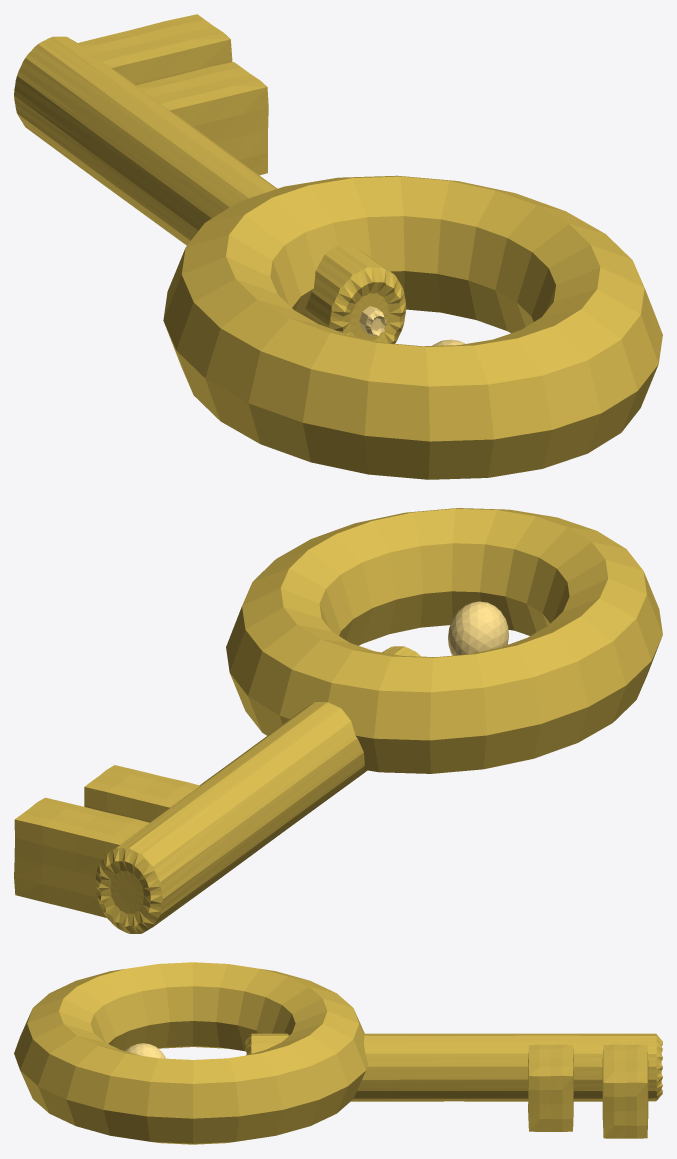
File: llave-aventura.glb
The picture shows the model from 3 angles, top to bottom: view 1: azimuth 30°, elevation 25°; view 2: azimuth 150°, elevation 25°; view 3: azimuth 270°, elevation 25°; orthographic projection. The views are drawn at different scales.
Visible parts, largest first — view 1: llave-aventura_00, llave-aventura_01, llave-aventura_03, llave-aventura_02; view 2: llave-aventura_00, llave-aventura_01, llave-aventura_02, llave-aventura_03, Detalle_01; view 3: llave-aventura_00, llave-aventura_01, llave-aventura_02, llave-aventura_03, Detalle_01.
Boxes of the visible parts, <box> form: llave-aventura_00: <box>163,175,662,479</box>; llave-aventura_01: <box>14,36,406,343</box>; llave-aventura_03: <box>136,62,268,175</box>; llave-aventura_02: <box>77,14,232,85</box>; llave-aventura_00: <box>226,508,662,773</box>; llave-aventura_01: <box>95,646,420,933</box>; llave-aventura_02: <box>14,797,149,917</box>; llave-aventura_03: <box>84,765,199,822</box>; Detalle_01: <box>448,601,508,655</box>; llave-aventura_00: <box>14,962,368,1144</box>; llave-aventura_01: <box>245,1033,662,1101</box>; llave-aventura_02: <box>602,1044,648,1138</box>; llave-aventura_03: <box>528,1044,573,1131</box>; Detalle_01: <box>125,1043,165,1058</box>.
Size of the model in its own units: 0.298 by 0.094 by 0.6268.
